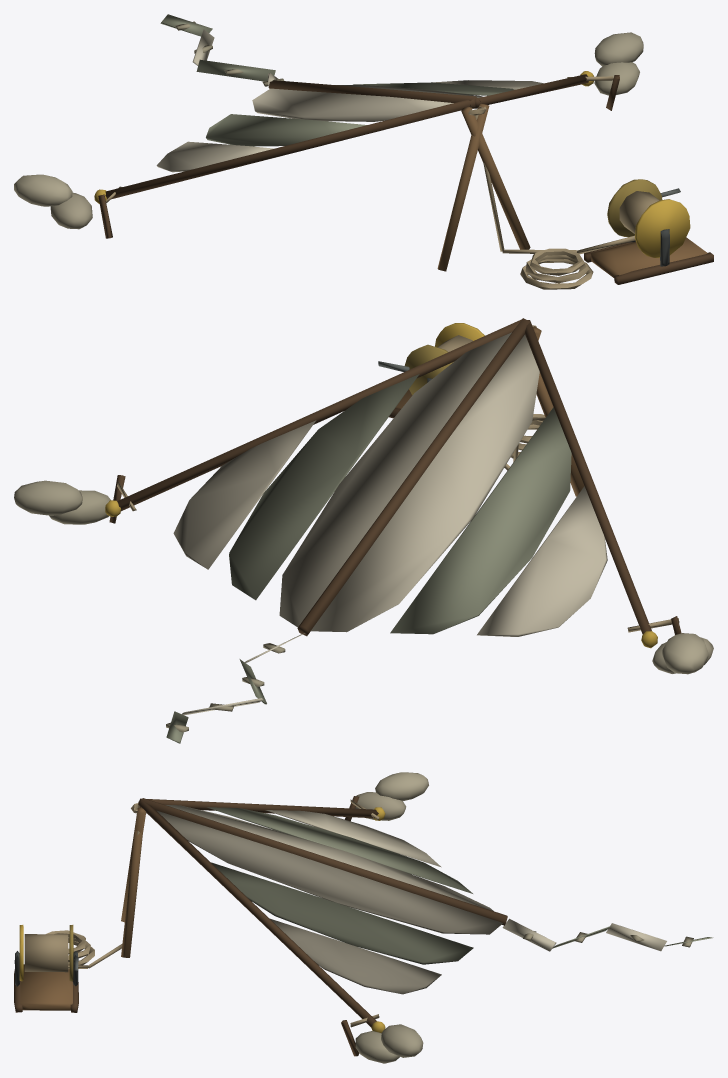
The model's file is moored_kite_a_lod2.glb.
3 renders of one model, top to bottom at view 1: azimuth 30°, elevation 25°; view 2: azimuth 150°, elevation 25°; view 3: azimuth 270°, elevation 25°, orthographic. The views are drawn at different scales.
Parts seen in each view (by area): view 1: Surface.001; view 2: Surface.001; view 3: Surface.001.
Part boxes in pixels (<box>): Surface.001: <box>14,14,713,289</box>; Surface.001: <box>14,318,713,743</box>; Surface.001: <box>14,772,713,1063</box>.
Size of the model in its own units: 8.22 by 2.04 by 8.84.
